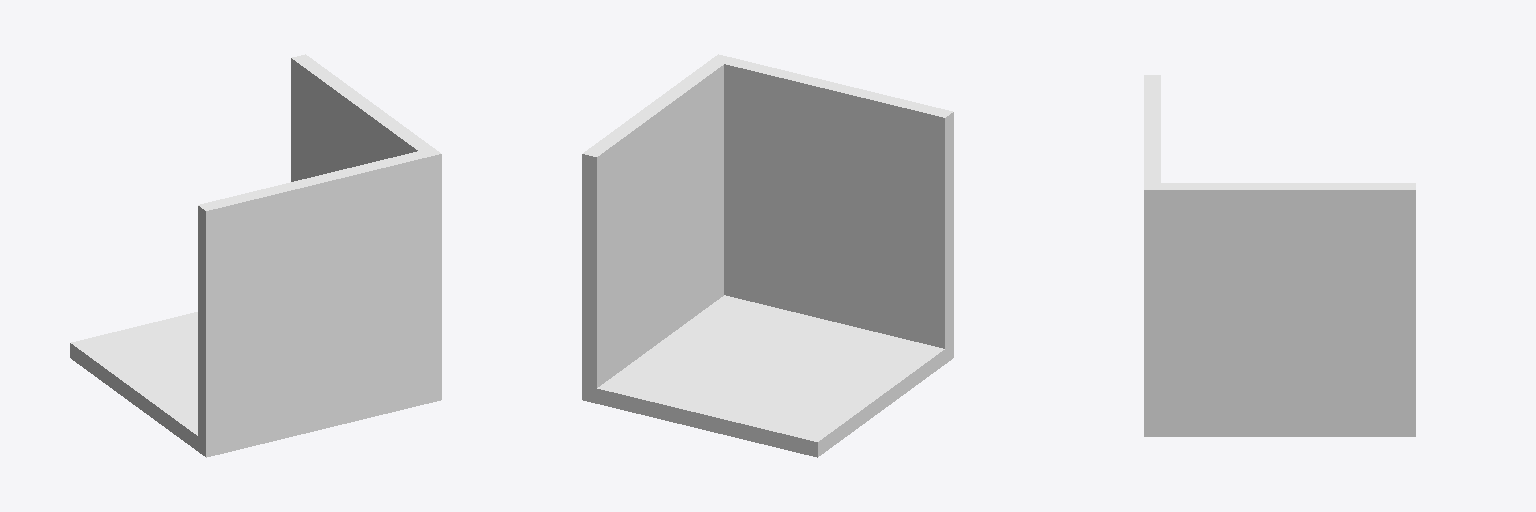
File: dungeon_corner.obj
The picture shows the model from 3 angles: view 1: azimuth 30°, elevation 25°; view 2: azimuth 150°, elevation 25°; view 3: azimuth 270°, elevation 25°; orthographic projection.
Parts seen in each view (by area): view 1: object 1; view 2: object 1; view 3: object 1.
Boxes of the visible parts, box(x1,y1,x2,y2) form: object 1: box(70, 54, 441, 457); object 1: box(582, 54, 953, 457); object 1: box(1144, 75, 1415, 436).
Bounding box in the file's own units: 1.6 × 1.6 × 1.6.